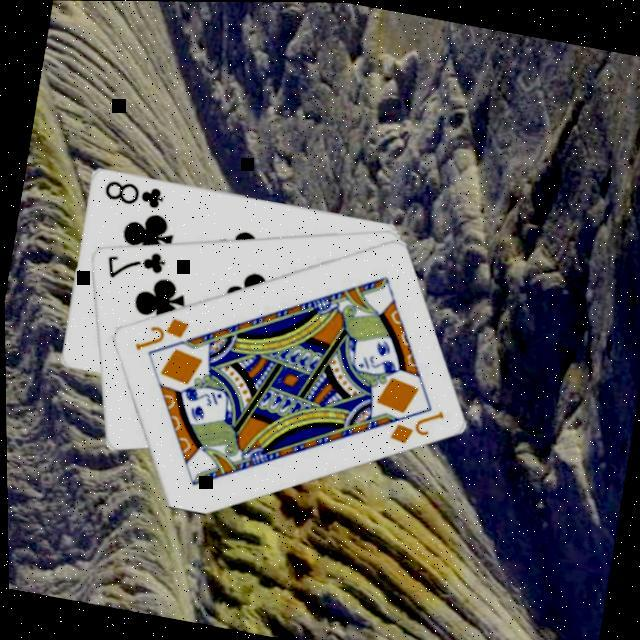7C: (97, 239, 168, 288)
8C: (97, 173, 165, 211)
JD: (126, 305, 190, 360), (381, 396, 445, 451)
